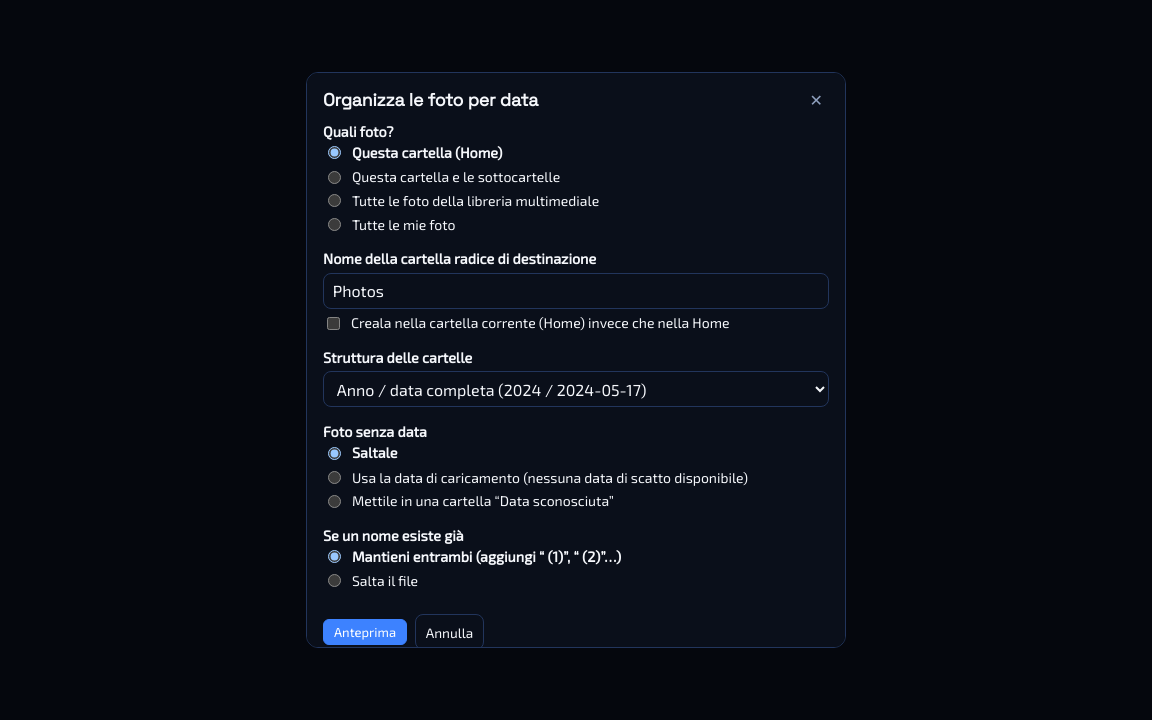
Test: OrganizeByDateWizard › surfaces a 400 validation error from the dry-run
Click the button "Anteprima": (365, 632) [323,619,407,645]
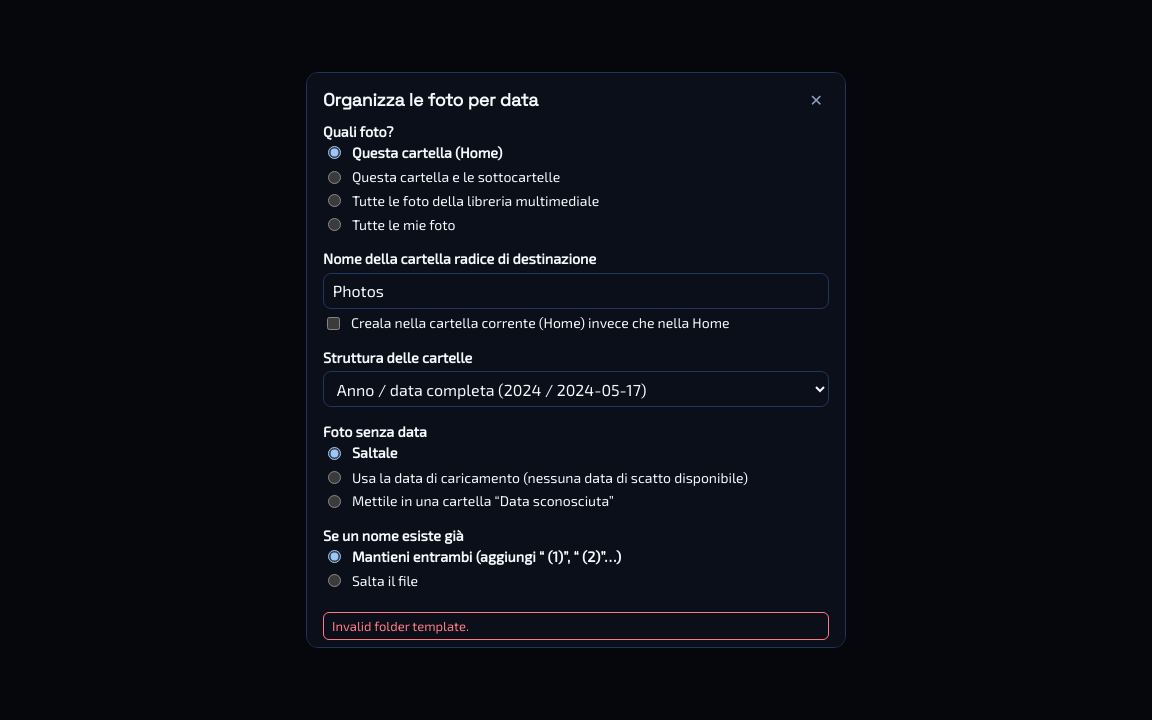
Now the text "Invalid folder template." is shown, box [323,612,829,640]
